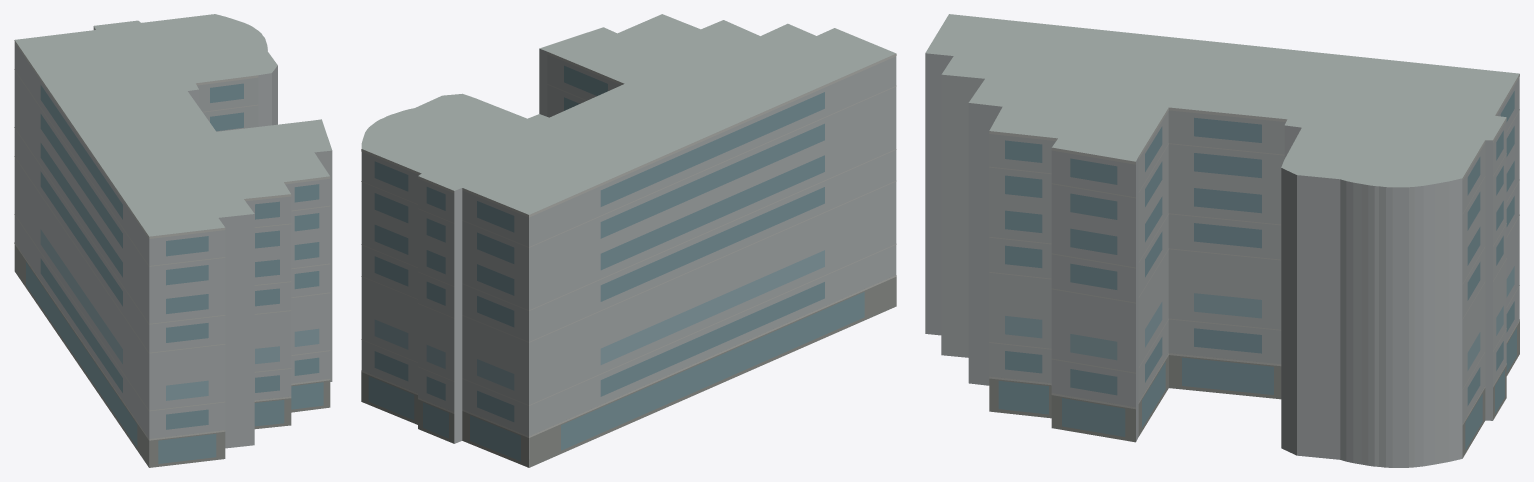
File: survey-upis-32840370.glb
3 renders of one model, left to right at view 1: azimuth 30°, elevation 25°; view 2: azimuth 150°, elevation 25°; view 3: azimuth 270°, elevation 25°, orthographic. The views are drawn at different scales.
Visible parts, largest first — view 1: survey-upis-32840370.tmp; view 2: survey-upis-32840370.tmp; view 3: survey-upis-32840370.tmp.
Part boxes in pixels (bbox=[...]): survey-upis-32840370.tmp: bbox=[14, 14, 332, 467]; survey-upis-32840370.tmp: bbox=[361, 14, 896, 467]; survey-upis-32840370.tmp: bbox=[925, 14, 1519, 467].
Size of the model in its own units: 30.75 by 23.2 by 44.58.
